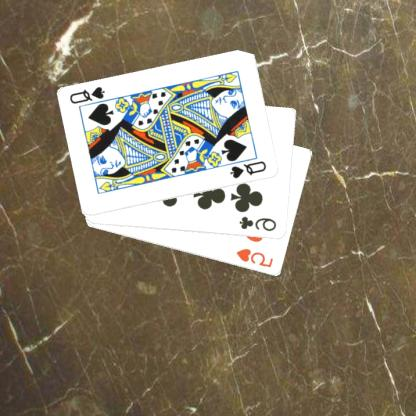5H: (235, 246, 277, 269)
9C: (238, 214, 280, 233)
QS: (229, 159, 270, 180), (69, 84, 108, 105)
